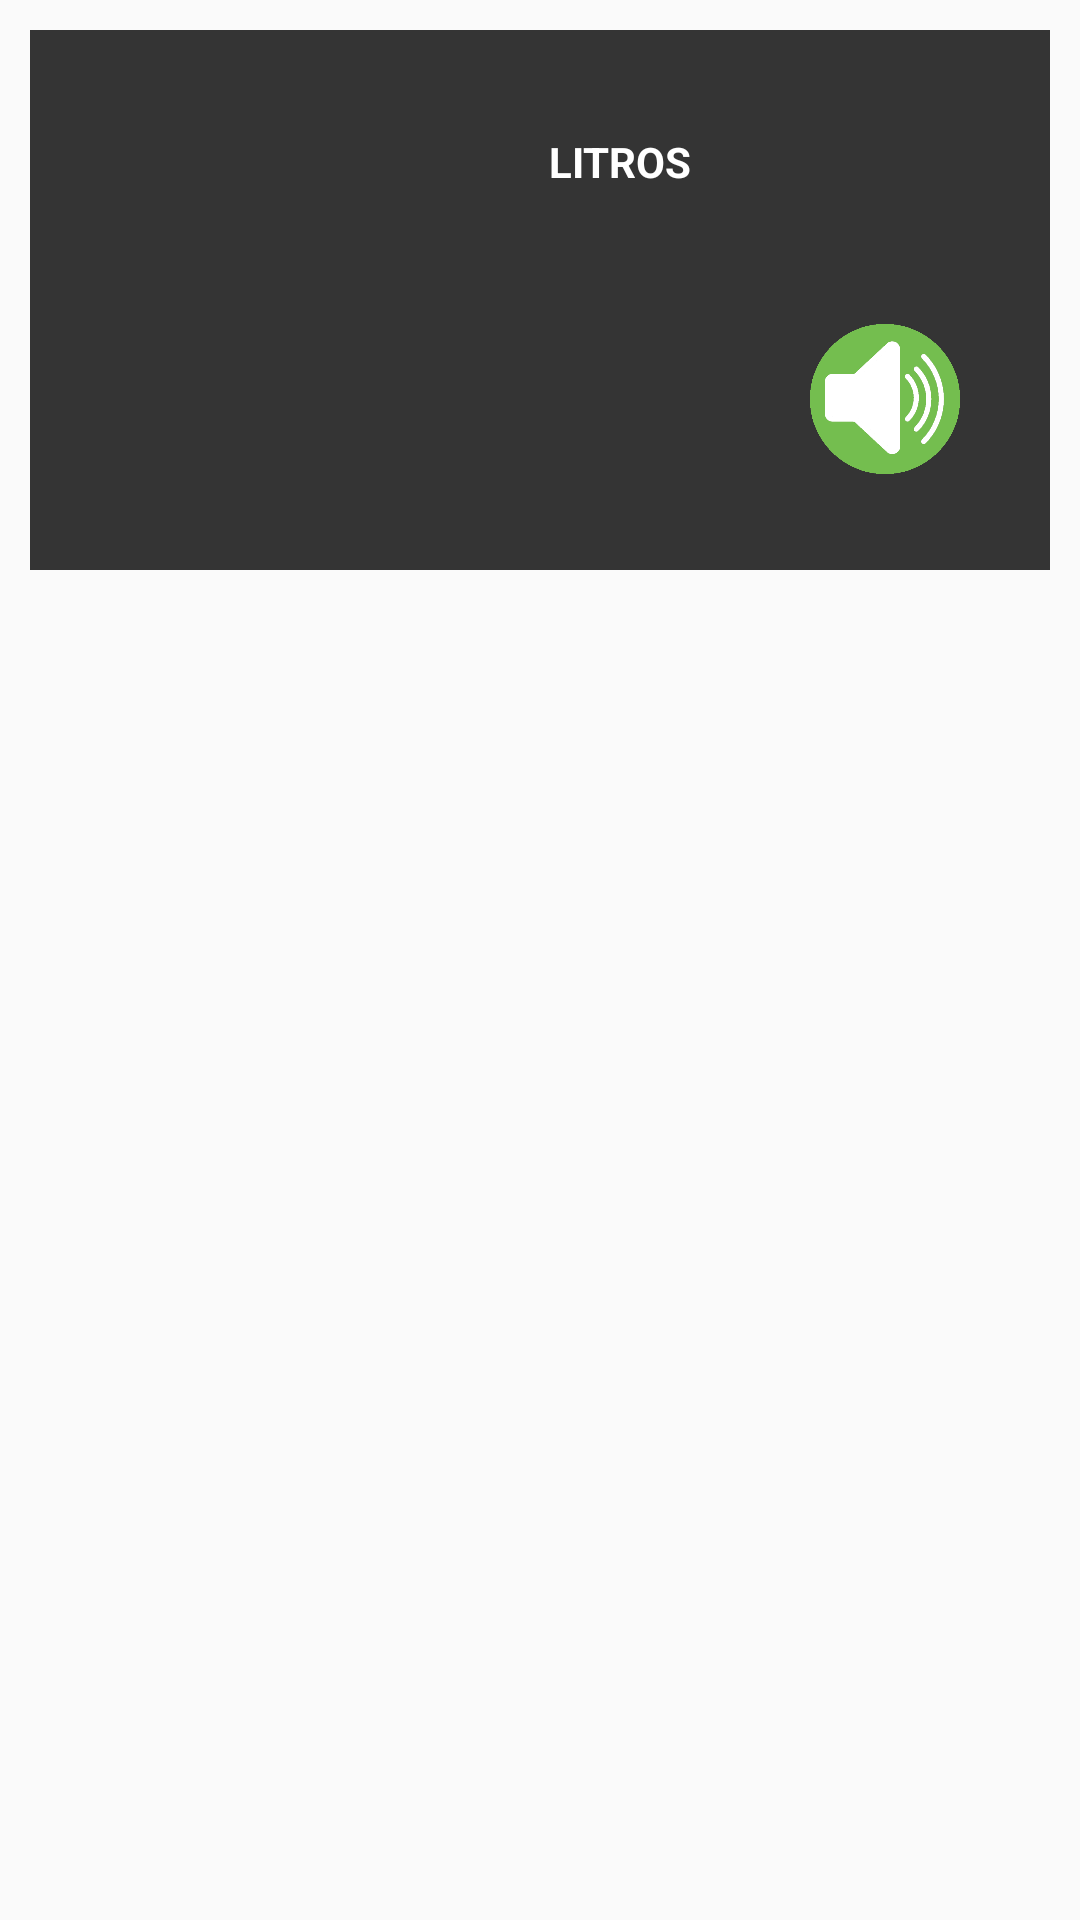

Screen size 1080*1920. Icon name, then its box in pixels as bbox=(x1, y1, x2, y2):
speaker: bbox=(810, 324, 960, 474)
